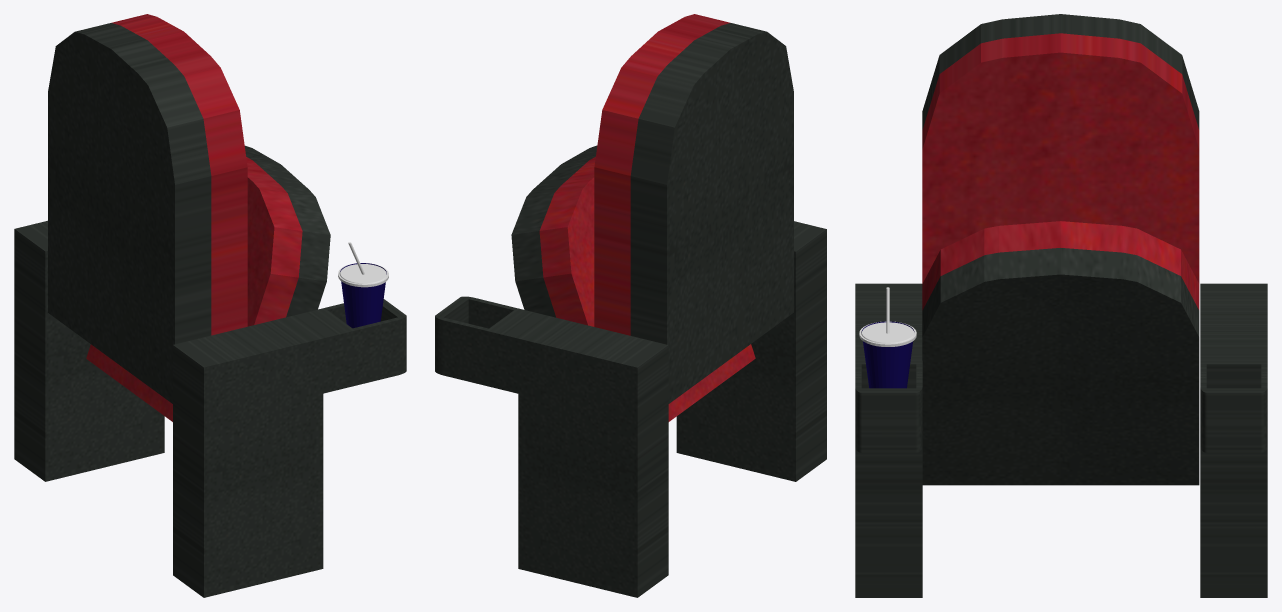
File: butaca_bebida.fbx
3 renders of one model, left to right at view 1: azimuth 30°, elevation 25°; view 2: azimuth 150°, elevation 25°; view 3: azimuth 270°, elevation 25°, orthographic. The views are drawn at different scales.
Visible parts, largest first — view 1: Butaca, Bebida; view 2: Butaca; view 3: Butaca, Bebida.
Boxes of the visible parts, bbox=[...] form: Butaca: bbox=[14, 14, 406, 597]; Bebida: bbox=[338, 242, 388, 328]; Butaca: bbox=[435, 14, 826, 597]; Butaca: bbox=[855, 14, 1267, 597]; Bebida: bbox=[859, 287, 916, 388].
Bounding box in the file's own units: 187 × 416 × 298.
3 materials, 1 textured.
